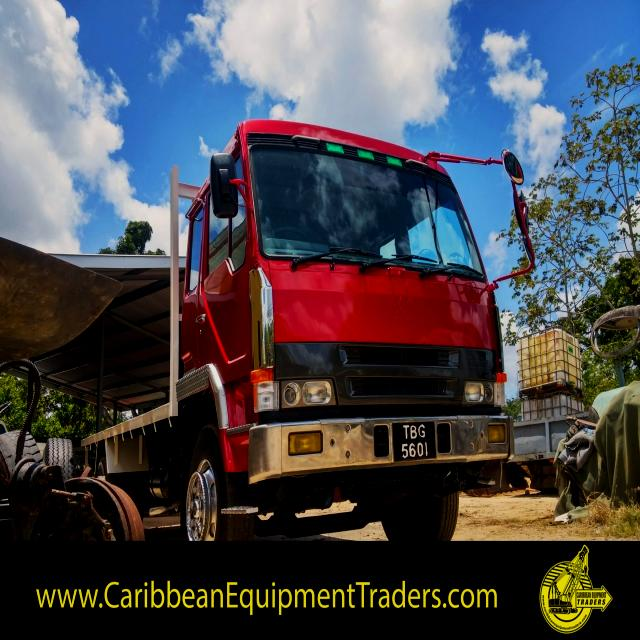truck: (67, 118, 537, 544)
